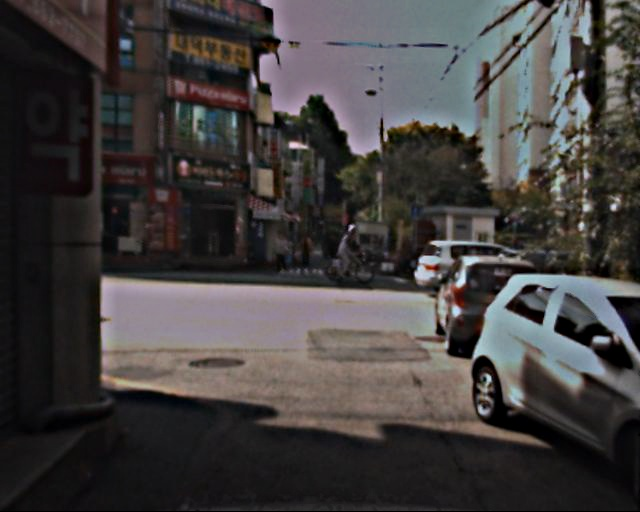person: (322, 231, 367, 277), (278, 234, 294, 273), (300, 232, 316, 270)
